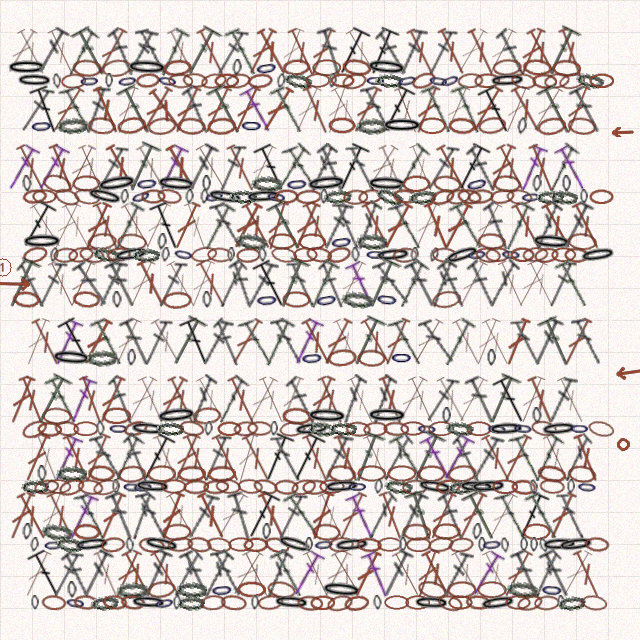chain: (443, 242, 482, 268), (95, 172, 139, 195), (275, 532, 314, 557), (365, 57, 408, 78), (305, 173, 348, 194), (155, 405, 198, 426), (85, 185, 124, 208), (155, 174, 198, 194), (530, 232, 573, 252), (50, 348, 93, 368), (320, 580, 363, 600), (112, 244, 151, 265), (142, 534, 181, 555), (126, 58, 168, 77), (416, 578, 448, 602), (206, 187, 244, 207), (579, 245, 617, 265), (416, 477, 454, 497), (479, 593, 517, 613), (366, 175, 408, 193), (306, 407, 348, 425), (41, 172, 73, 195), (73, 535, 111, 554), (557, 535, 595, 554), (6, 59, 48, 76), (381, 117, 423, 134), (21, 233, 63, 250), (366, 407, 408, 424), (374, 185, 405, 208), (20, 417, 49, 441), (235, 231, 268, 252), (374, 246, 412, 264), (129, 420, 167, 438), (293, 420, 331, 438), (540, 420, 578, 438), (333, 536, 371, 554), (536, 115, 567, 137), (536, 463, 567, 485), (266, 579, 297, 601), (341, 57, 372, 78), (116, 115, 147, 136), (431, 289, 462, 310), (146, 579, 177, 600), (323, 478, 361, 495), (410, 69, 438, 92), (101, 58, 133, 78), (41, 522, 73, 542), (57, 476, 86, 498), (477, 115, 507, 136), (489, 72, 526, 89), (245, 188, 282, 205), (134, 478, 171, 495), (470, 478, 507, 495), (541, 536, 578, 553), (130, 594, 167, 611), (273, 594, 310, 611), (53, 186, 81, 208), (429, 186, 457, 208), (56, 116, 88, 135), (341, 290, 373, 309), (506, 580, 538, 599), (162, 58, 192, 78), (147, 116, 177, 136), (567, 116, 597, 136), (432, 174, 462, 194), (567, 464, 597, 484), (488, 421, 525, 437), (458, 479, 495, 495), (413, 595, 450, 611), (21, 244, 49, 265), (325, 244, 353, 265), (122, 418, 150, 439), (116, 581, 148, 599), (464, 173, 490, 195), (492, 58, 522, 77), (522, 58, 552, 77), (283, 71, 313, 90), (575, 71, 605, 90), (492, 174, 522, 193), (87, 232, 117, 251), (567, 232, 597, 251), (327, 348, 357, 367), (192, 406, 222, 425), (327, 464, 357, 483), (447, 464, 477, 483), (200, 71, 228, 91), (558, 71, 586, 91), (78, 245, 106, 265), (270, 245, 298, 265), (587, 419, 615, 439), (92, 477, 120, 497), (263, 535, 291, 555), (326, 593, 354, 613), (436, 593, 464, 613), (516, 593, 544, 613), (356, 117, 387, 135), (86, 349, 117, 367), (16, 73, 53, 88), (282, 58, 311, 77), (87, 116, 116, 135), (477, 232, 506, 251), (92, 245, 121, 264), (12, 290, 41, 309), (72, 290, 101, 309), (87, 464, 116, 483), (72, 59, 102, 77), (341, 71, 368, 91), (117, 233, 147, 251), (162, 291, 192, 309), (42, 407, 72, 425), (117, 465, 147, 483), (252, 477, 279, 497), (290, 477, 317, 497), (543, 71, 571, 90), (73, 187, 101, 206), (67, 245, 95, 264), (190, 245, 218, 264), (305, 245, 333, 264), (530, 419, 558, 438), (427, 535, 455, 554), (251, 175, 282, 192), (356, 233, 387, 250), (56, 465, 87, 482), (176, 581, 207, 598), (552, 59, 581, 77), (177, 117, 206, 135), (207, 117, 236, 135), (408, 188, 437, 206), (357, 349, 386, 367), (282, 407, 311, 425), (177, 465, 206, 483), (207, 465, 236, 483), (447, 478, 476, 496), (162, 523, 191, 541), (312, 523, 341, 541), (402, 523, 431, 541), (90, 594, 119, 612), (557, 594, 586, 612), (156, 187, 183, 206), (357, 187, 384, 206), (445, 187, 472, 206), (456, 187, 483, 206), (489, 187, 516, 206), (178, 419, 205, 438), (186, 535, 213, 554), (477, 581, 507, 598), (438, 70, 462, 91), (448, 117, 476, 135), (129, 186, 153, 207), (73, 523, 101, 541), (580, 594, 608, 612), (254, 58, 279, 78), (329, 232, 354, 252), (314, 290, 339, 310), (312, 59, 341, 76), (72, 175, 101, 192), (402, 175, 431, 192), (323, 188, 352, 205), (282, 291, 311, 308), (102, 407, 131, 424), (445, 420, 474, 437), (147, 465, 176, 482), (357, 465, 386, 482), (387, 465, 416, 482), (417, 465, 446, 482), (384, 478, 413, 495), (432, 523, 461, 540), (522, 523, 551, 540), (55, 536, 84, 553), (237, 581, 266, 598), (447, 581, 476, 598), (510, 72, 537, 90), (506, 188, 533, 206), (533, 246, 560, 264), (279, 420, 306, 438), (33, 478, 60, 496), (77, 478, 104, 496), (138, 536, 165, 554), (343, 594, 370, 612), (328, 117, 356, 134), (418, 117, 446, 134), (268, 233, 296, 250), (298, 233, 326, 250), (225, 72, 251, 90), (247, 72, 273, 90), (475, 246, 501, 264), (206, 536, 232, 554), (448, 536, 474, 554), (457, 72, 484, 89), (467, 188, 494, 205), (522, 246, 549, 263), (167, 536, 194, 553), (220, 594, 247, 611), (257, 594, 284, 611), (135, 174, 159, 193), (375, 290, 399, 309), (536, 189, 564, 205), (550, 189, 578, 205), (132, 247, 160, 263), (308, 421, 336, 437), (177, 595, 205, 611), (135, 72, 161, 89), (182, 72, 208, 89), (22, 188, 48, 205), (392, 188, 418, 205), (106, 246, 132, 263), (54, 420, 80, 437), (233, 420, 259, 437), (215, 478, 241, 495), (237, 478, 263, 495), (435, 478, 461, 495), (539, 478, 565, 495), (100, 536, 126, 553), (328, 536, 354, 553), (584, 536, 610, 553), (41, 594, 67, 611), (73, 594, 99, 611), (102, 594, 128, 611), (120, 594, 146, 611), (200, 594, 226, 611), (465, 594, 491, 611), (396, 71, 419, 90), (203, 187, 226, 206), (172, 245, 195, 264), (285, 175, 309, 193), (295, 189, 322, 205), (255, 291, 279, 309), (300, 349, 324, 367), (210, 581, 234, 599), (540, 581, 564, 599), (375, 73, 403, 88), (229, 189, 257, 204), (156, 421, 184, 436), (329, 421, 357, 436), (21, 479, 49, 494), (207, 247, 233, 263), (392, 247, 418, 263), (345, 421, 371, 437), (383, 421, 409, 437), (183, 479, 209, 495), (203, 479, 229, 495), (302, 479, 328, 495), (402, 479, 428, 495), (356, 537, 382, 553), (297, 595, 323, 611), (534, 595, 560, 611), (116, 72, 139, 90), (156, 72, 179, 90), (427, 72, 450, 90), (30, 117, 53, 135), (265, 188, 288, 206), (64, 594, 87, 612), (153, 594, 176, 612), (61, 73, 86, 89), (168, 73, 193, 89), (532, 73, 557, 89), (343, 189, 368, 205), (53, 247, 78, 263), (236, 247, 261, 263), (432, 247, 457, 263), (564, 247, 589, 263), (37, 421, 62, 437), (363, 421, 388, 437), (274, 479, 299, 495), (511, 479, 536, 495), (240, 117, 263, 134), (390, 349, 413, 366), (474, 73, 500, 88), (73, 421, 99, 436), (400, 421, 426, 436), (428, 421, 454, 436), (466, 421, 492, 436), (45, 479, 71, 494), (161, 479, 187, 494), (319, 479, 345, 494), (492, 479, 518, 494), (228, 537, 254, 552), (505, 595, 531, 610), (214, 73, 239, 88), (305, 73, 330, 88), (330, 73, 355, 88), (589, 73, 614, 88), (32, 189, 57, 204), (141, 189, 166, 204), (274, 189, 299, 204), (589, 189, 614, 204), (293, 247, 318, 262), (485, 247, 510, 262), (510, 247, 535, 262), (551, 247, 576, 262), (217, 421, 242, 436), (247, 421, 272, 436), (243, 537, 268, 552), (377, 537, 402, 552), (406, 537, 431, 552), (310, 595, 335, 610), (384, 595, 409, 610), (405, 595, 430, 610), (448, 595, 473, 610), (466, 246, 488, 263), (500, 246, 522, 263), (512, 420, 534, 437), (313, 536, 335, 553), (481, 536, 503, 553), (520, 189, 542, 205), (416, 421, 438, 437), (486, 421, 508, 437), (132, 479, 154, 495), (576, 479, 598, 495), (79, 73, 100, 89), (122, 479, 143, 495), (43, 537, 64, 553), (365, 73, 386, 88), (365, 247, 386, 262), (108, 421, 129, 436), (569, 421, 590, 436), (347, 479, 368, 494), (516, 117, 528, 135), (428, 247, 440, 263), (538, 537, 550, 553), (232, 59, 242, 76), (22, 175, 32, 192), (532, 175, 542, 192), (157, 233, 167, 250), (112, 291, 122, 308), (202, 291, 212, 308), (532, 407, 542, 424), (37, 465, 47, 482), (22, 523, 32, 540), (472, 523, 482, 540), (67, 581, 77, 598), (52, 73, 62, 89), (276, 73, 286, 89), (49, 247, 59, 263), (529, 479, 539, 495), (125, 537, 135, 553), (500, 537, 510, 553), (202, 175, 211, 192), (562, 175, 571, 192), (127, 349, 136, 366), (487, 349, 496, 366), (442, 407, 451, 424), (262, 523, 271, 540), (328, 73, 337, 88), (120, 189, 129, 204), (185, 189, 194, 204), (200, 189, 209, 204), (161, 247, 170, 262), (258, 247, 267, 262), (351, 247, 360, 262), (410, 247, 419, 262), (96, 421, 105, 436), (204, 421, 213, 436), (374, 479, 383, 494), (30, 537, 39, 552), (373, 595, 382, 610), (557, 595, 566, 610), (105, 73, 113, 88), (320, 189, 328, 204), (580, 189, 588, 204), (227, 247, 235, 262), (270, 421, 278, 436), (112, 479, 120, 494), (567, 479, 575, 494), (305, 537, 313, 552), (399, 537, 407, 552), (478, 537, 486, 552), (520, 537, 528, 552), (530, 537, 538, 552), (31, 595, 39, 610), (173, 595, 181, 610), (251, 595, 259, 610)
double: (70, 25, 113, 79), (180, 25, 223, 79), (116, 83, 158, 137), (206, 83, 248, 137), (536, 83, 578, 137), (266, 199, 308, 253), (166, 315, 208, 369), (31, 373, 73, 427), (16, 199, 58, 252), (56, 315, 98, 368), (541, 25, 582, 79), (376, 83, 417, 137), (476, 83, 517, 137), (451, 141, 492, 195), (251, 257, 292, 311), (491, 373, 532, 427), (136, 431, 177, 485), (406, 431, 447, 485), (241, 489, 282, 543), (461, 489, 502, 543), (26, 547, 67, 601), (332, 25, 372, 79), (122, 141, 162, 195), (252, 141, 292, 195), (2, 257, 42, 311), (362, 257, 402, 311), (347, 315, 387, 369), (537, 315, 577, 369), (482, 373, 522, 427), (287, 431, 327, 485), (145, 85, 188, 135), (271, 142, 313, 193), (281, 490, 323, 541), (281, 142, 322, 194), (391, 142, 432, 194), (332, 141, 371, 195), (512, 489, 551, 543), (71, 259, 113, 309), (361, 142, 402, 193), (26, 200, 67, 251), (197, 200, 237, 252), (237, 316, 277, 368), (437, 316, 477, 368), (387, 432, 427, 484), (363, 25, 401, 79), (148, 199, 186, 253), (273, 257, 311, 311), (178, 315, 216, 369), (258, 431, 296, 485), (348, 431, 386, 485), (342, 26, 382, 77), (47, 84, 87, 135), (257, 84, 297, 135), (192, 142, 232, 193), (227, 548, 267, 599), (327, 548, 367, 599), (62, 26, 101, 78), (107, 200, 146, 252), (387, 200, 426, 252), (447, 200, 486, 252), (387, 316, 426, 368), (212, 374, 251, 426), (28, 83, 65, 137), (2, 26, 41, 77), (32, 26, 71, 77), (92, 26, 131, 77), (452, 26, 491, 77), (137, 84, 176, 135), (327, 84, 366, 135), (467, 84, 506, 135), (507, 84, 546, 135), (527, 84, 566, 135), (102, 142, 141, 193), (132, 142, 171, 193), (162, 142, 201, 193), (117, 200, 156, 251), (147, 316, 186, 367), (227, 316, 266, 367), (357, 316, 396, 367), (122, 374, 161, 425), (192, 374, 231, 425), (392, 374, 431, 425), (162, 490, 201, 541), (212, 490, 251, 541), (147, 548, 186, 599), (447, 548, 486, 599), (467, 548, 506, 599), (557, 548, 596, 599), (13, 26, 51, 78), (153, 26, 191, 78), (523, 26, 561, 78), (58, 84, 96, 136), (268, 84, 306, 136), (568, 84, 606, 136), (433, 142, 471, 194), (543, 142, 581, 194), (58, 200, 96, 252), (228, 200, 266, 252), (238, 200, 276, 252), (378, 200, 416, 252), (438, 200, 476, 252), (468, 200, 506, 252), (498, 200, 536, 252), (508, 200, 546, 252), (538, 200, 576, 252), (103, 258, 141, 310), (163, 258, 201, 310), (193, 258, 231, 310), (303, 258, 341, 310), (393, 258, 431, 310), (403, 258, 441, 310), (453, 258, 491, 310), (513, 258, 551, 310), (553, 258, 591, 310), (78, 316, 116, 368), (88, 316, 126, 368), (258, 316, 296, 368), (298, 316, 336, 368), (318, 316, 356, 368), (448, 316, 486, 368), (153, 374, 191, 426), (243, 374, 281, 426), (453, 374, 491, 426), (108, 432, 146, 484), (238, 432, 276, 484), (478, 432, 516, 484), (528, 432, 566, 484), (13, 490, 51, 542), (483, 490, 521, 542), (493, 490, 531, 542), (523, 490, 561, 542), (118, 548, 156, 600), (268, 548, 306, 600), (388, 548, 426, 600), (498, 548, 536, 600), (404, 489, 440, 543), (253, 26, 291, 77), (238, 84, 276, 135), (3, 142, 41, 193), (33, 142, 71, 193), (408, 316, 446, 367), (433, 374, 471, 425), (418, 432, 456, 483), (438, 432, 476, 483), (288, 548, 326, 599), (163, 26, 200, 78), (193, 26, 230, 78), (223, 26, 260, 78), (403, 26, 440, 78), (483, 26, 520, 78), (348, 84, 385, 136), (13, 142, 50, 194), (63, 142, 100, 194), (183, 142, 220, 194), (223, 142, 260, 194), (493, 142, 530, 194), (48, 200, 85, 252), (558, 200, 595, 252), (568, 200, 605, 252), (333, 258, 370, 310), (523, 258, 560, 310), (28, 316, 65, 368), (118, 316, 155, 368), (478, 316, 515, 368), (43, 374, 80, 426), (343, 374, 380, 426), (553, 374, 590, 426), (208, 432, 245, 484), (498, 432, 535, 484), (508, 432, 545, 484), (43, 490, 80, 542), (73, 490, 110, 542), (78, 548, 115, 600), (178, 548, 215, 600), (238, 548, 275, 600), (318, 548, 355, 600), (348, 548, 385, 600), (378, 548, 415, 600), (418, 548, 455, 600), (478, 548, 515, 600), (538, 548, 575, 600), (372, 259, 411, 308), (419, 83, 455, 136), (243, 26, 280, 77), (553, 142, 590, 193), (358, 200, 395, 251), (133, 258, 170, 309), (44, 26, 80, 78), (284, 26, 320, 78), (169, 84, 205, 136), (199, 84, 235, 136), (289, 84, 325, 136), (244, 142, 280, 194), (79, 200, 115, 252), (89, 200, 125, 252), (139, 200, 175, 252), (299, 200, 335, 252), (44, 258, 80, 310), (494, 258, 530, 310), (109, 316, 145, 368), (329, 316, 365, 368), (529, 316, 565, 368), (134, 374, 170, 426), (164, 374, 200, 426), (224, 374, 260, 426), (464, 374, 500, 426), (59, 432, 95, 484), (359, 432, 395, 484), (64, 490, 100, 542), (314, 490, 350, 542), (334, 490, 370, 542), (394, 490, 430, 542), (424, 490, 460, 542), (544, 490, 580, 542), (19, 548, 55, 600), (109, 548, 145, 600), (299, 548, 335, 600), (509, 548, 545, 600), (569, 548, 605, 600), (373, 27, 411, 76), (483, 259, 521, 308), (418, 317, 456, 366), (449, 83, 484, 136), (468, 433, 505, 483), (198, 549, 235, 599), (434, 26, 470, 77), (154, 142, 190, 193), (289, 316, 325, 367), (559, 316, 595, 367), (194, 490, 230, 541), (254, 490, 290, 541), (454, 490, 490, 541), (464, 26, 499, 78), (514, 26, 549, 78), (89, 84, 124, 136), (229, 84, 264, 136), (299, 84, 334, 136), (439, 84, 474, 136), (499, 84, 534, 136), (74, 142, 109, 194), (484, 142, 519, 194), (169, 200, 204, 252), (289, 200, 324, 252), (409, 200, 444, 252), (64, 258, 99, 310), (124, 258, 159, 310), (344, 258, 379, 310), (379, 316, 414, 368), (94, 374, 129, 426), (304, 374, 339, 426), (314, 374, 349, 426), (404, 374, 439, 426), (524, 374, 559, 426), (19, 432, 54, 484), (49, 432, 84, 484), (149, 432, 184, 484), (169, 432, 204, 484), (179, 432, 214, 484), (299, 432, 334, 484), (539, 432, 574, 484), (4, 490, 39, 542), (104, 490, 139, 542), (344, 490, 379, 542), (89, 548, 124, 600), (139, 548, 174, 600), (18, 85, 55, 134), (423, 375, 460, 424), (464, 143, 500, 193), (184, 491, 220, 541), (305, 26, 339, 78), (390, 84, 424, 136), (410, 84, 444, 136), (560, 84, 594, 136), (45, 142, 79, 194), (375, 142, 409, 194), (405, 142, 439, 194), (515, 142, 549, 194), (525, 142, 559, 194), (420, 200, 454, 252), (185, 258, 219, 310), (20, 316, 54, 368), (50, 316, 84, 368), (470, 316, 504, 368), (500, 316, 534, 368), (15, 374, 49, 426), (255, 374, 289, 426), (515, 374, 549, 426), (30, 432, 64, 484), (80, 432, 114, 484), (330, 432, 364, 484), (95, 490, 129, 542), (260, 548, 294, 600), (424, 143, 460, 192), (379, 433, 415, 482), (169, 549, 205, 598), (124, 27, 159, 77), (214, 27, 249, 77), (494, 27, 529, 77), (94, 143, 129, 193), (304, 143, 339, 193), (209, 201, 244, 251), (529, 201, 564, 251), (14, 259, 49, 309), (244, 259, 279, 309), (199, 317, 234, 367), (284, 375, 319, 425), (89, 433, 124, 483), (59, 549, 94, 599), (439, 549, 474, 599), (320, 200, 354, 251), (435, 258, 469, 309), (465, 258, 499, 309), (270, 316, 304, 367), (320, 432, 354, 483), (275, 26, 308, 78), (555, 26, 588, 78), (180, 200, 213, 252), (5, 374, 38, 426), (65, 374, 98, 426), (75, 374, 108, 426), (275, 374, 308, 426), (375, 374, 408, 426), (570, 432, 603, 484), (35, 490, 68, 542), (155, 490, 188, 542), (375, 490, 408, 542), (360, 548, 393, 600), (364, 491, 399, 540), (215, 259, 249, 309), (450, 433, 484, 483), (560, 433, 594, 483), (50, 549, 84, 599), (135, 26, 168, 77), (180, 84, 213, 135), (360, 84, 393, 135), (315, 142, 348, 193), (95, 258, 128, 309), (425, 258, 458, 309), (185, 374, 218, 425), (545, 374, 578, 425), (135, 490, 168, 541), (210, 548, 243, 599), (321, 84, 353, 136), (411, 548, 443, 600), (425, 27, 458, 77), (345, 143, 378, 193), (35, 259, 68, 309), (155, 259, 188, 309), (510, 317, 543, 367), (270, 433, 303, 483), (275, 491, 308, 541), (530, 549, 563, 599), (106, 26, 138, 77), (396, 26, 428, 77), (351, 200, 383, 251), (481, 200, 513, 251), (571, 316, 603, 367), (336, 374, 368, 425), (366, 374, 398, 425), (436, 490, 468, 541), (316, 26, 347, 78), (111, 84, 142, 136), (226, 490, 257, 542), (306, 490, 337, 542), (286, 259, 318, 309), (316, 259, 348, 309), (141, 317, 173, 367), (211, 317, 243, 367), (216, 142, 247, 193), (546, 258, 577, 309), (106, 374, 137, 425), (121, 432, 152, 483), (201, 432, 232, 483), (556, 490, 587, 541), (262, 200, 292, 252), (232, 432, 262, 484), (332, 200, 362, 251), (227, 258, 257, 309), (127, 490, 157, 541), (82, 84, 111, 135)
noise: (613, 362, 640, 382), (0, 276, 32, 291), (0, 256, 14, 279), (609, 127, 634, 137), (616, 437, 631, 452)
